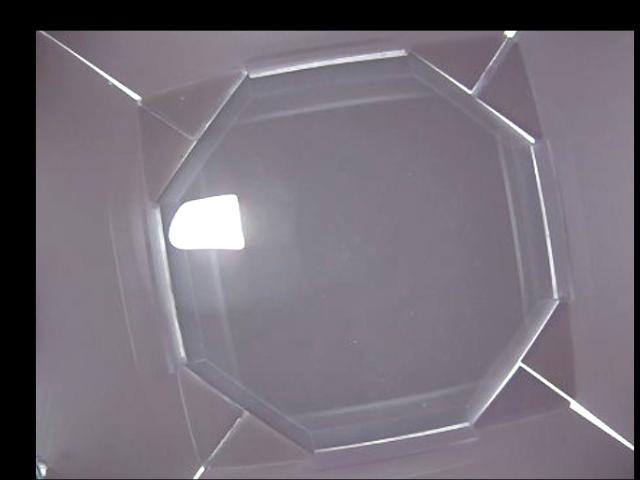Pebble: (170, 192, 245, 251)
